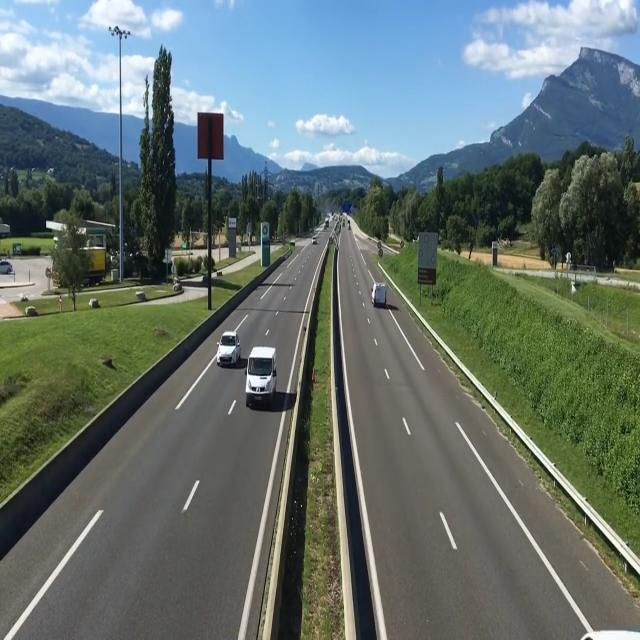car: (246, 343, 280, 412), (216, 330, 244, 370), (372, 280, 392, 312)
